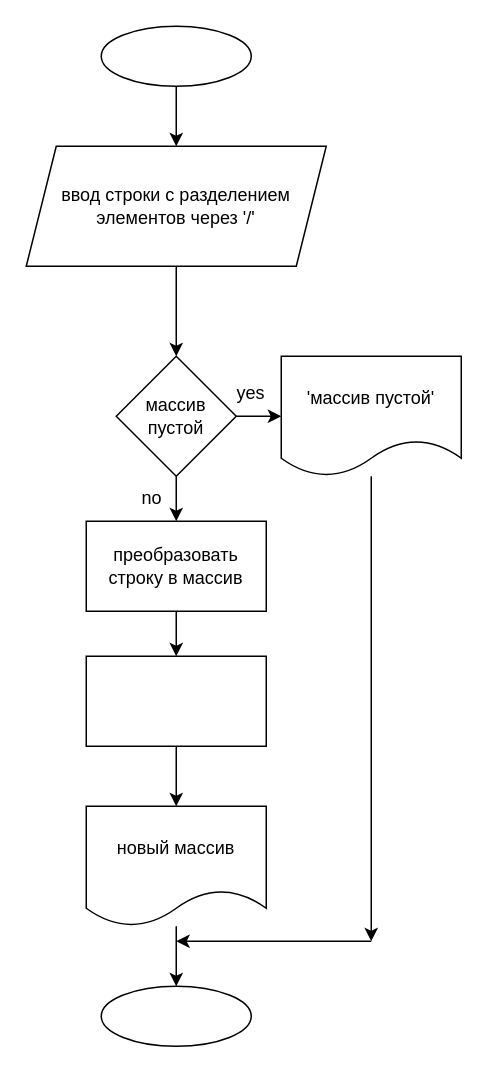
The diagram is 488 pixels wide and 1073 high, and some of its shapes have lost their labels. The shapes that lost their labels are listed below. From the top down, each one's box as (x1, y1, x2, y2) in pixels, then its label:
(100, 25, 251, 86): начало
(85, 655, 266, 746): выбрать элементы с длиной до 3-ех символов
(100, 985, 251, 1046): конец
